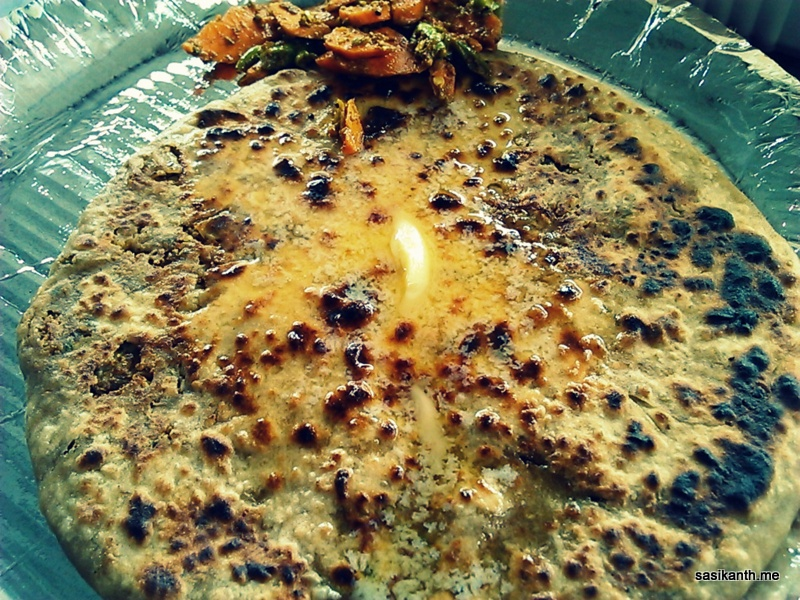aloo_paratha: (21, 54, 793, 600)
